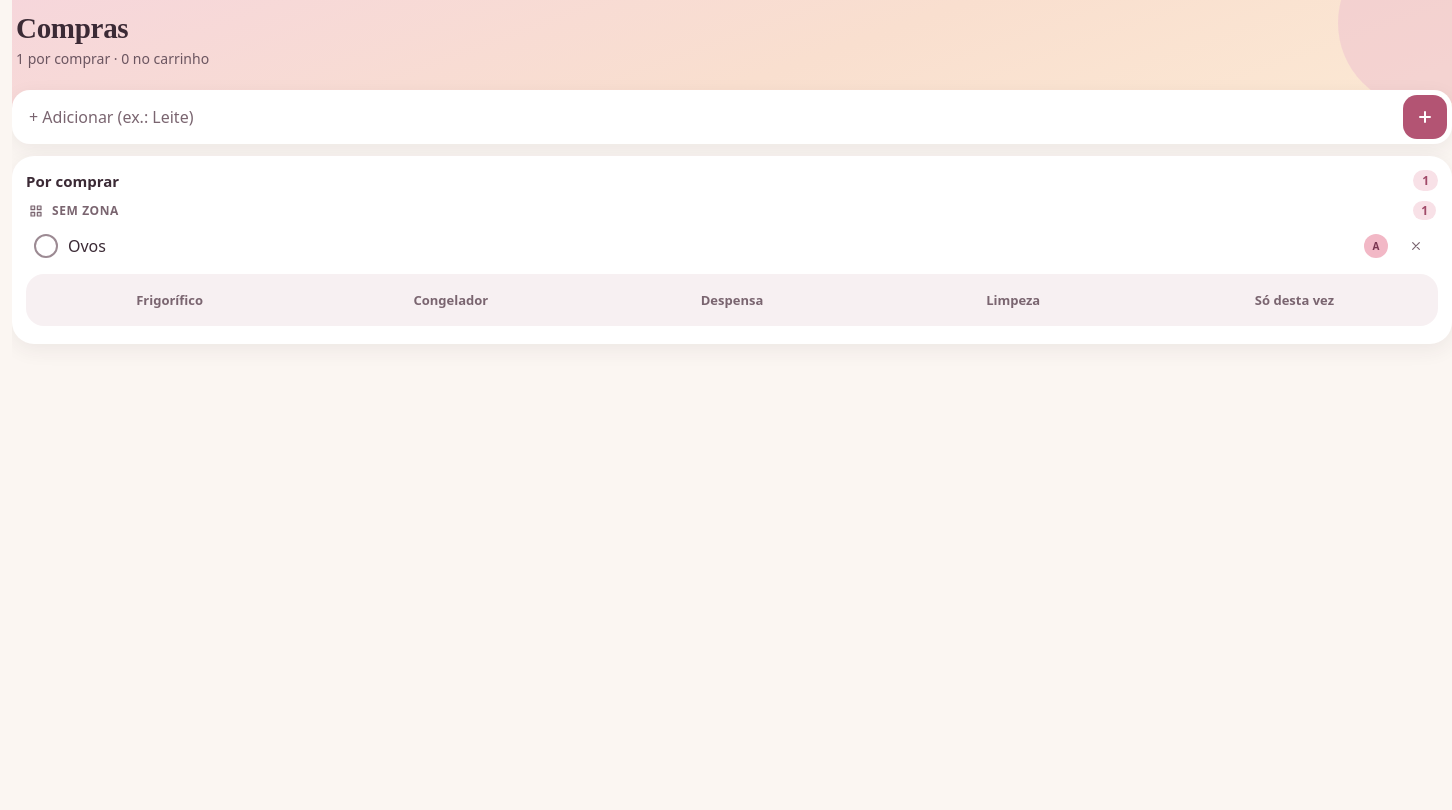
Scenario: deleting an item offers undo
Click the button named "Apagar Ovos".
click(1416, 246)  # box [1394, 224, 1438, 268]
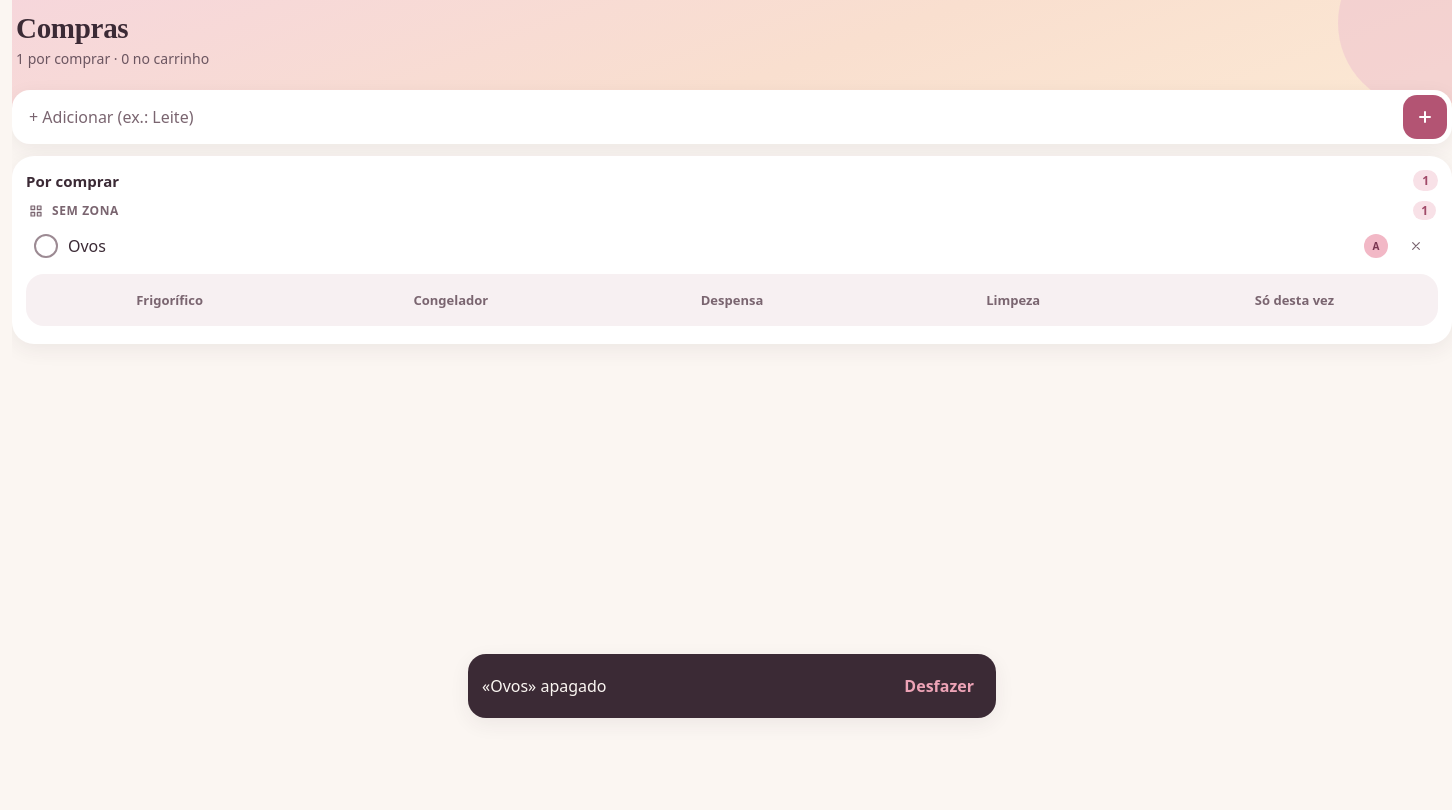
Result: the button "Desfazer" is shown at [896, 664, 982, 708]
